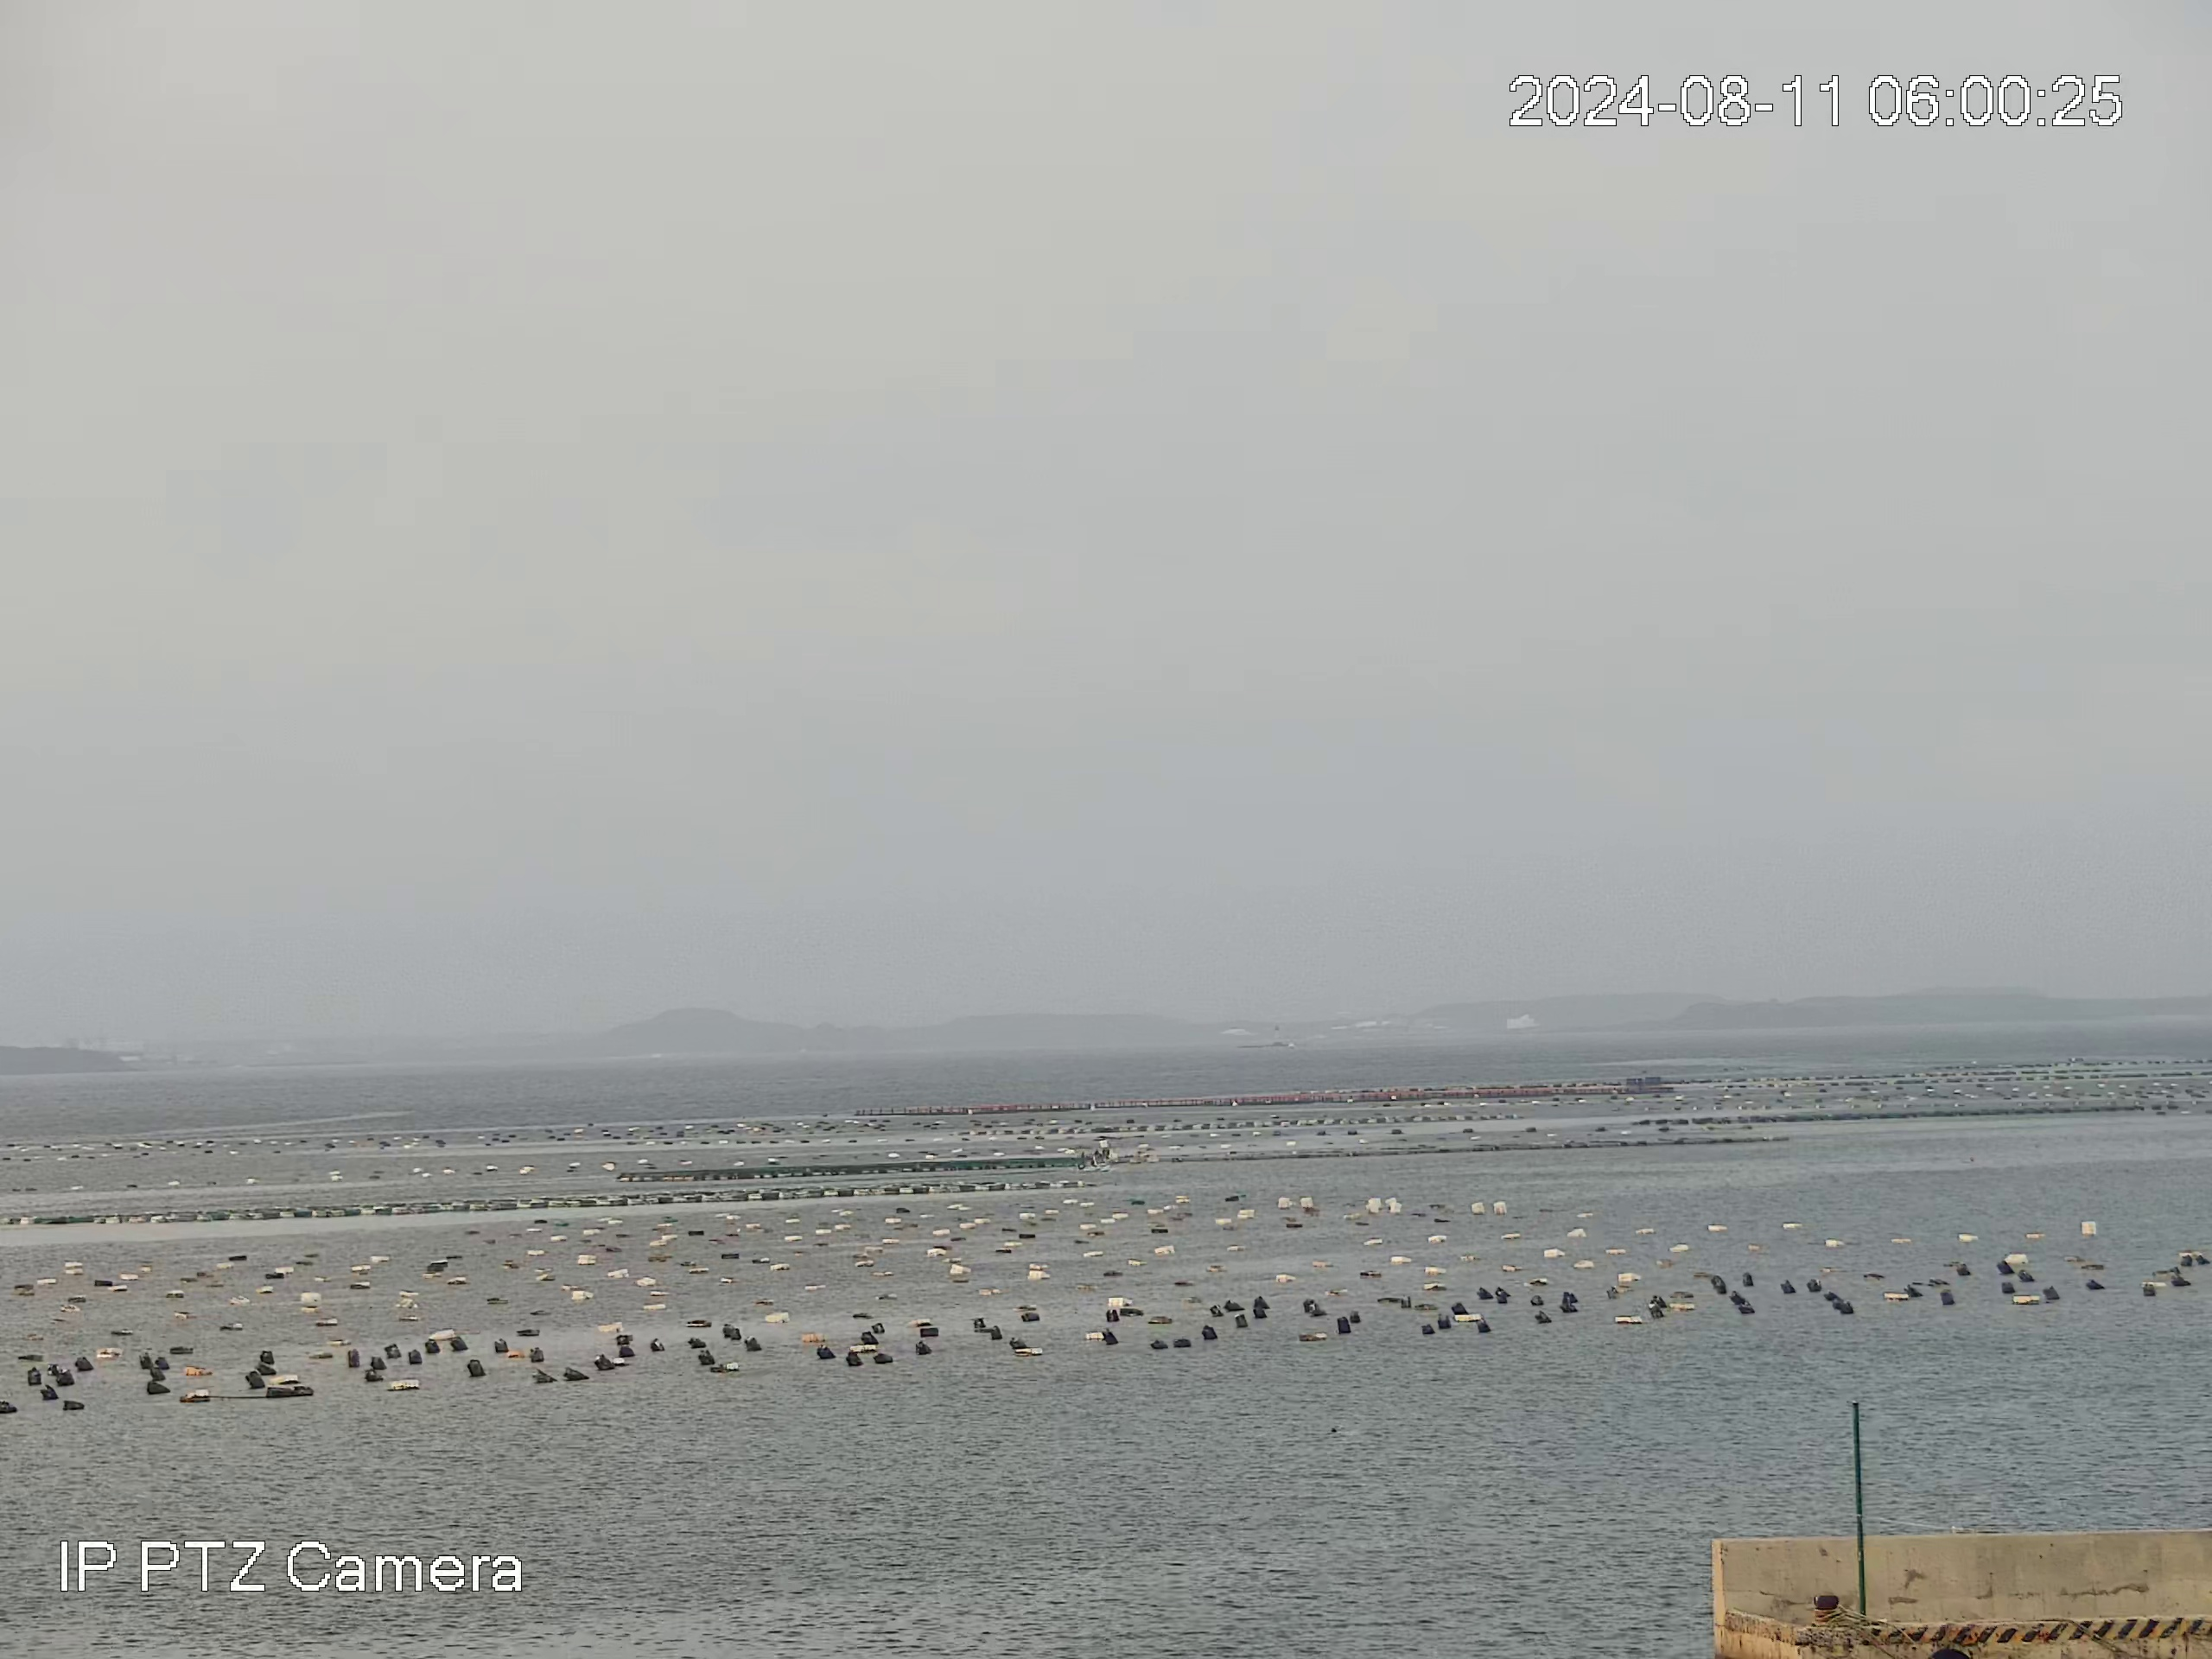boat: (1076, 1147, 1113, 1173)
